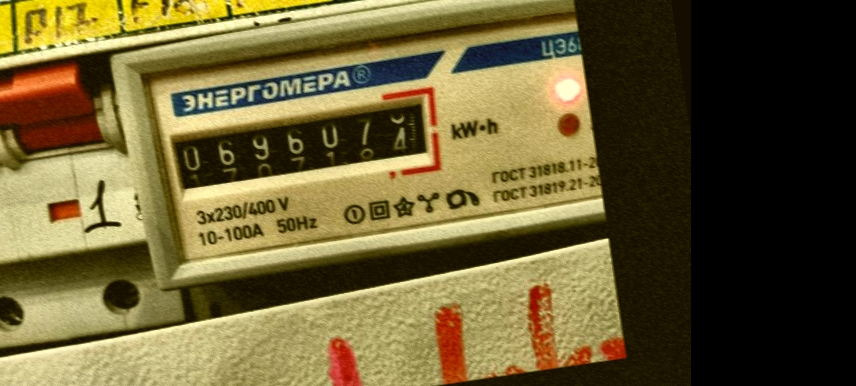0: (179, 140, 203, 173), (318, 117, 341, 150)
4: (387, 123, 410, 154)
6: (213, 134, 239, 167), (284, 124, 307, 155)
7: (353, 113, 374, 146)
9: (249, 130, 271, 162)
screen: (152, 79, 447, 209)
